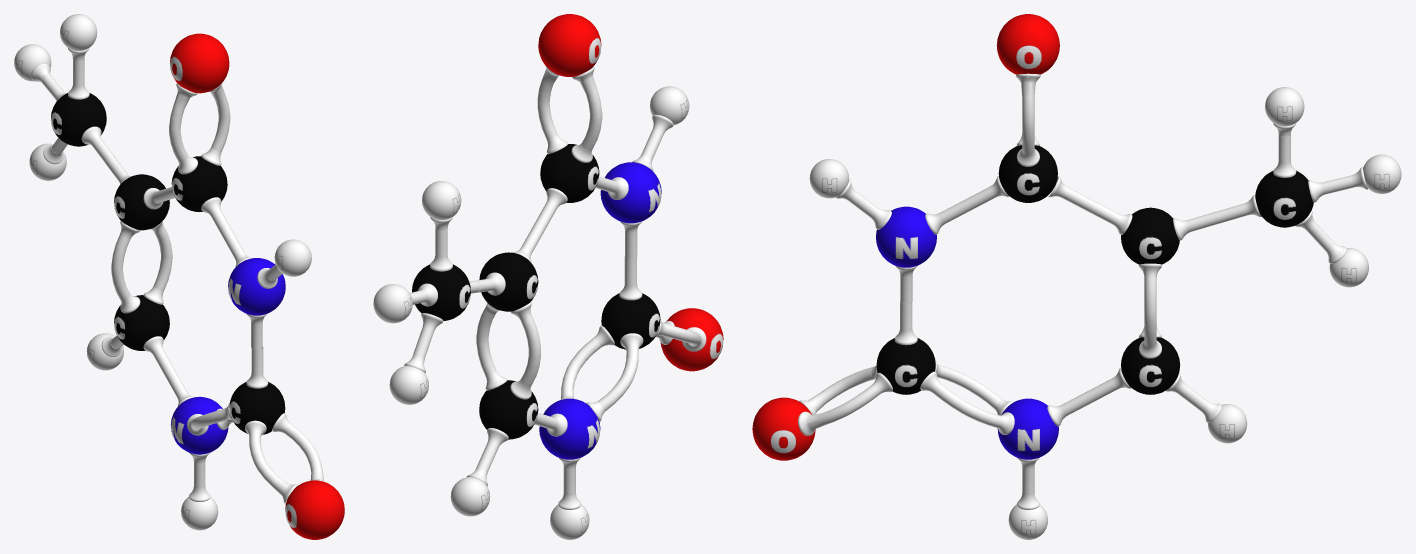
File: thymine_molecule.glb
The picture shows the model from 3 angles, left to right: view 1: azimuth 30°, elevation 25°; view 2: azimuth 150°, elevation 25°; view 3: azimuth 270°, elevation 25°; orthographic projection. The views are drawn at different scales.
Parts seen in each view (by area): view 1: Oksijen_Atomu_Yuksek_Detay014, Oksijen_Atomu_Yuksek_Detay013, Azot_Atomu_Yuksek_Detay016, Karbon_Atomu_Yuksek_Detay020, Karbon_Atomu_Yuksek_Detay017, Karbon_Atomu_Yuksek_Detay019, Karbon_Atomu_Yuksek_Detay016, Karbon_Atomu_Yuksek_Detay015, Azot_Atomu_Yuksek_Detay015, Karbon_Atomu_cift_Bag_Yuksek_Detay009, Karbon_Atomu_cift_Bag_Yuksek_Detay011, Karbon_Atomu_cift_Bag_Yuksek_Detay012 (+22 smaller); view 2: Oksijen_Atomu_Yuksek_Detay013, Azot_Atomu_Yuksek_Detay016, Azot_Atomu_Yuksek_Detay015, Karbon_Atomu_Yuksek_Detay017, Oksijen_Atomu_Yuksek_Detay014, Karbon_Atomu_Yuksek_Detay016, Karbon_Atomu_Yuksek_Detay019, Karbon_Atomu_Yuksek_Detay015, Karbon_Atomu_Yuksek_Detay020, Karbon_Atomu_cift_Bag_Yuksek_Detay009, Karbon_Atomu_cift_Bag_Yuksek_Detay011, Karbon_Atomu_cift_Bag_Yuksek_Detay008 (+24 smaller); view 3: Oksijen_Atomu_Yuksek_Detay013, Oksijen_Atomu_Yuksek_Detay014, Azot_Atomu_Yuksek_Detay016, Azot_Atomu_Yuksek_Detay015, Karbon_Atomu_Yuksek_Detay017, Karbon_Atomu_Yuksek_Detay020, Karbon_Atomu_Yuksek_Detay015, Karbon_Atomu_Yuksek_Detay016, Karbon_Atomu_Yuksek_Detay019, Oksijen_Atomu_Cift_Bag_Yuksek_Detay005, Azot_Atomu_Cift_Bag_Yuksek_Detay004, Hidrojen_Atomu_Yuksek_Detay008 (+9 smaller).
Part boxes in pixels (<box>): Oksijen_Atomu_Yuksek_Detay014: <box>285,480,344,539</box>; Oksijen_Atomu_Yuksek_Detay013: <box>170,33,229,93</box>; Azot_Atomu_Yuksek_Detay016: <box>228,258,285,315</box>; Karbon_Atomu_Yuksek_Detay020: <box>51,93,106,146</box>; Karbon_Atomu_Yuksek_Detay017: <box>114,174,169,230</box>; Karbon_Atomu_Yuksek_Detay019: <box>171,156,227,211</box>; Karbon_Atomu_Yuksek_Detay016: <box>114,295,169,350</box>; Karbon_Atomu_Yuksek_Detay015: <box>229,382,285,434</box>; Azot_Atomu_Yuksek_Detay015: <box>171,396,228,454</box>; Karbon_Atomu_cift_Bag_Yuksek_Detay009: <box>111,257,172,313</box>; Karbon_Atomu_cift_Bag_Yuksek_Detay011: <box>169,118,230,174</box>; Karbon_Atomu_cift_Bag_Yuksek_Detay012: <box>245,413,315,466</box>; Oksijen_Atomu_Yuksek_Detay013: <box>538,14,601,76</box>; Azot_Atomu_Yuksek_Detay016: <box>600,162,661,223</box>; Azot_Atomu_Yuksek_Detay015: <box>539,398,600,459</box>; Karbon_Atomu_Yuksek_Detay017: <box>479,252,538,311</box>; Oksijen_Atomu_Yuksek_Detay014: <box>660,308,723,371</box>; Karbon_Atomu_Yuksek_Detay016: <box>479,380,538,439</box>; Karbon_Atomu_Yuksek_Detay019: <box>540,144,599,202</box>; Karbon_Atomu_Yuksek_Detay015: <box>601,293,660,349</box>; Karbon_Atomu_Yuksek_Detay020: <box>412,264,470,320</box>; Karbon_Atomu_cift_Bag_Yuksek_Detay009: <box>476,340,540,399</box>; Karbon_Atomu_cift_Bag_Yuksek_Detay011: <box>537,104,602,162</box>; Karbon_Atomu_cift_Bag_Yuksek_Detay008: <box>569,325,643,382</box>; Oksijen_Atomu_Yuksek_Detay013: <box>996,14,1059,74</box>; Oksijen_Atomu_Yuksek_Detay014: <box>752,397,815,460</box>; Azot_Atomu_Yuksek_Detay016: <box>876,206,936,267</box>; Azot_Atomu_Yuksek_Detay015: <box>997,398,1058,459</box>; Karbon_Atomu_Yuksek_Detay017: <box>1121,207,1179,264</box>; Karbon_Atomu_Yuksek_Detay020: <box>1255,170,1313,227</box>; Karbon_Atomu_Yuksek_Detay015: <box>876,338,935,394</box>; Karbon_Atomu_Yuksek_Detay016: <box>1121,337,1180,394</box>; Karbon_Atomu_Yuksek_Detay019: <box>998,145,1057,202</box>; Oksijen_Atomu_Cift_Bag_Yuksek_Detay005: <box>798,379,847,435</box>; Azot_Atomu_Cift_Bag_Yuksek_Detay004: <box>965,378,1014,434</box>; Hidrojen_Atomu_Yuksek_Detay008: <box>1265,87,1304,126</box>.
Size of the model in its own units: 0.0369 by 0.291 by 0.3285.
Materials: 5 (4 with a texture image).
